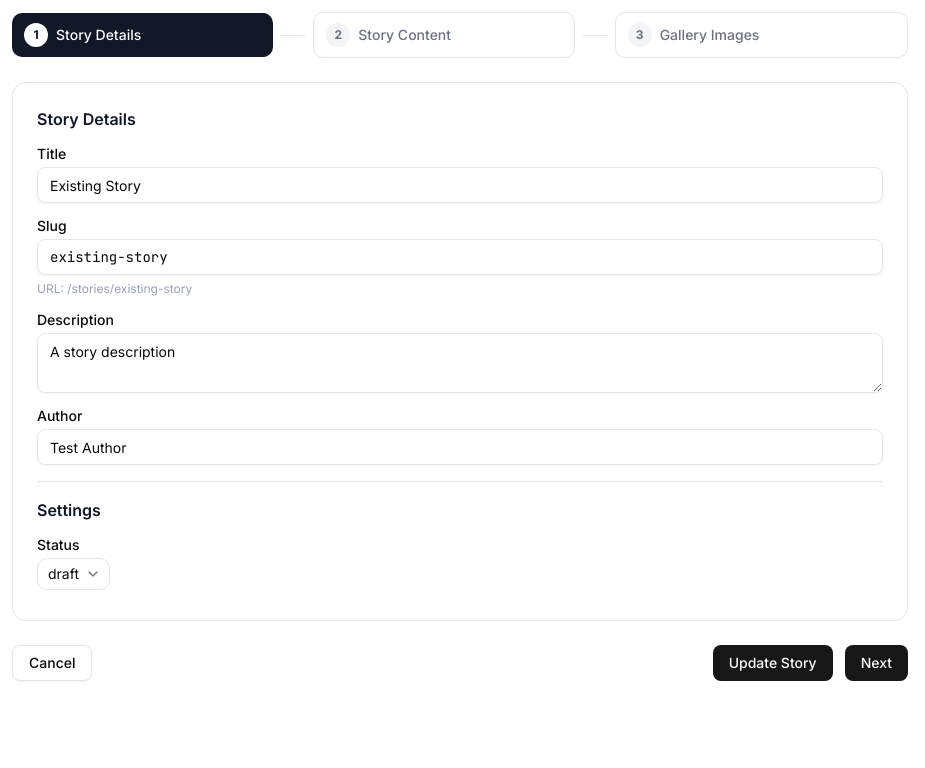
Scenario: form submission › shows error when update fails
The width and height of the screenshot is (925, 768).
What coordinates should you click on to do the following:
click the button "Update Story"
I would click on:
 (773, 663)
Its box is x1=713 y1=645 x2=833 y2=681.
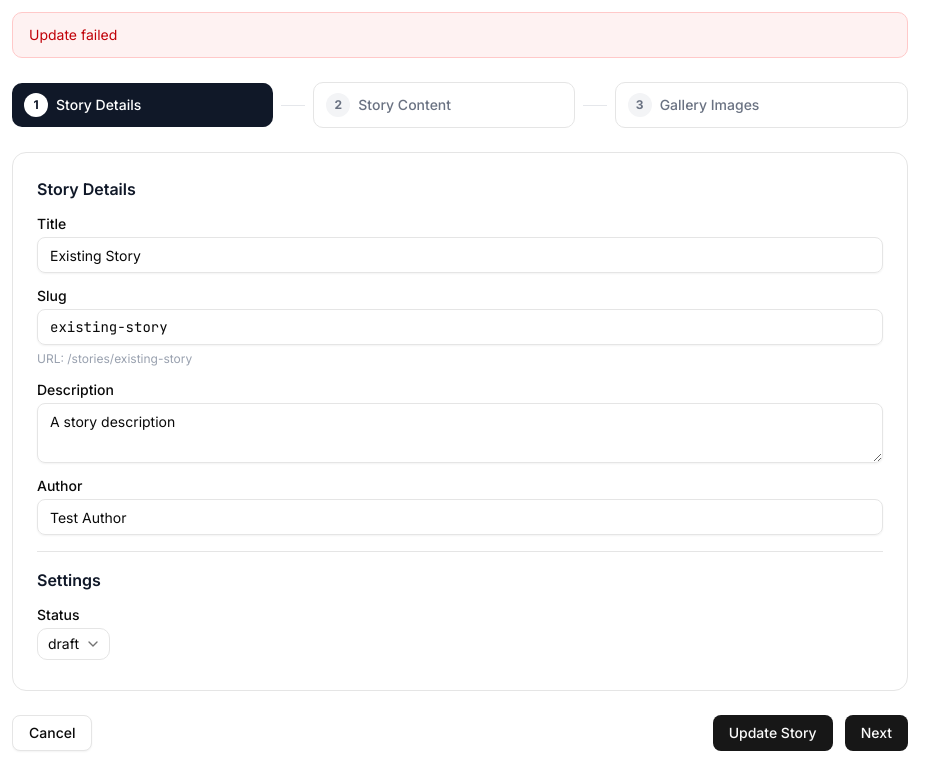
Expected: the text "Update failed" is shown, x1=12 y1=12 x2=908 y2=58
